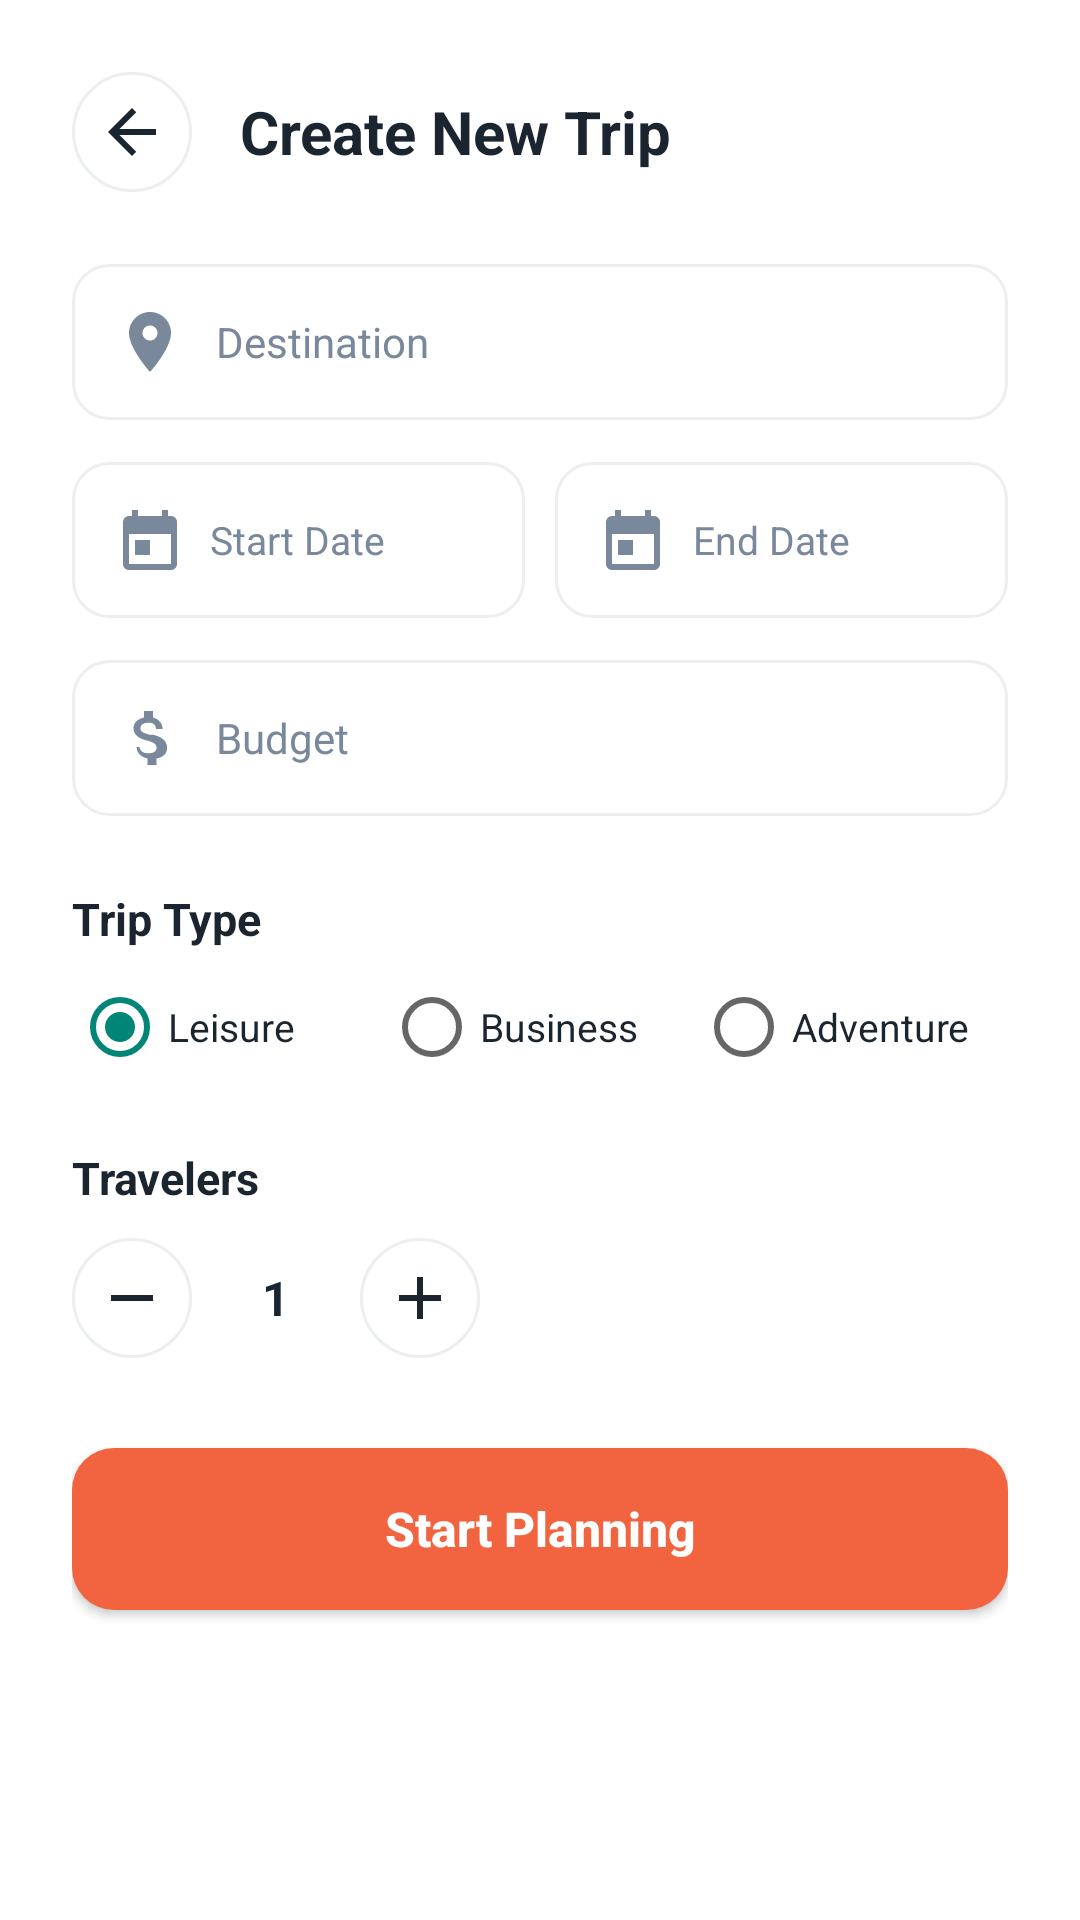

Icon click points for this 1080 × 1920 phone screenshot, format (x,y):
Back: (132,132)
